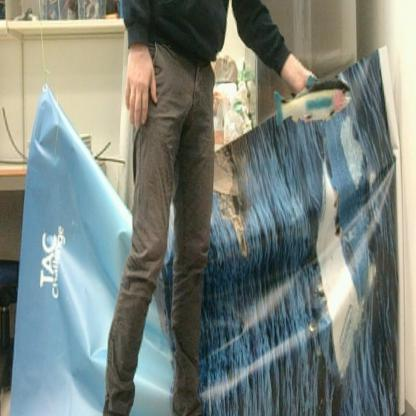rubberfish: (274, 69, 352, 134)
